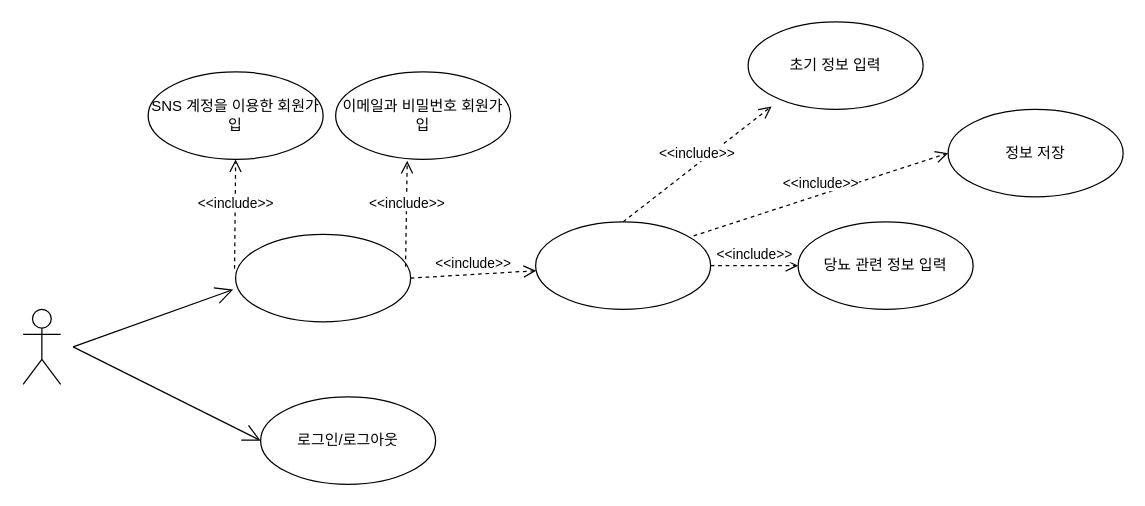
The diagram is 1145 pixels wide and 506 high, and some of its shapes have lost their labels. The centre of each missing label's shape, as x and y in pixels:
"사용자" goes at (x=41, y=346).
"정보 입력" goes at (x=622, y=265).
"회원가입" goes at (x=322, y=277).
